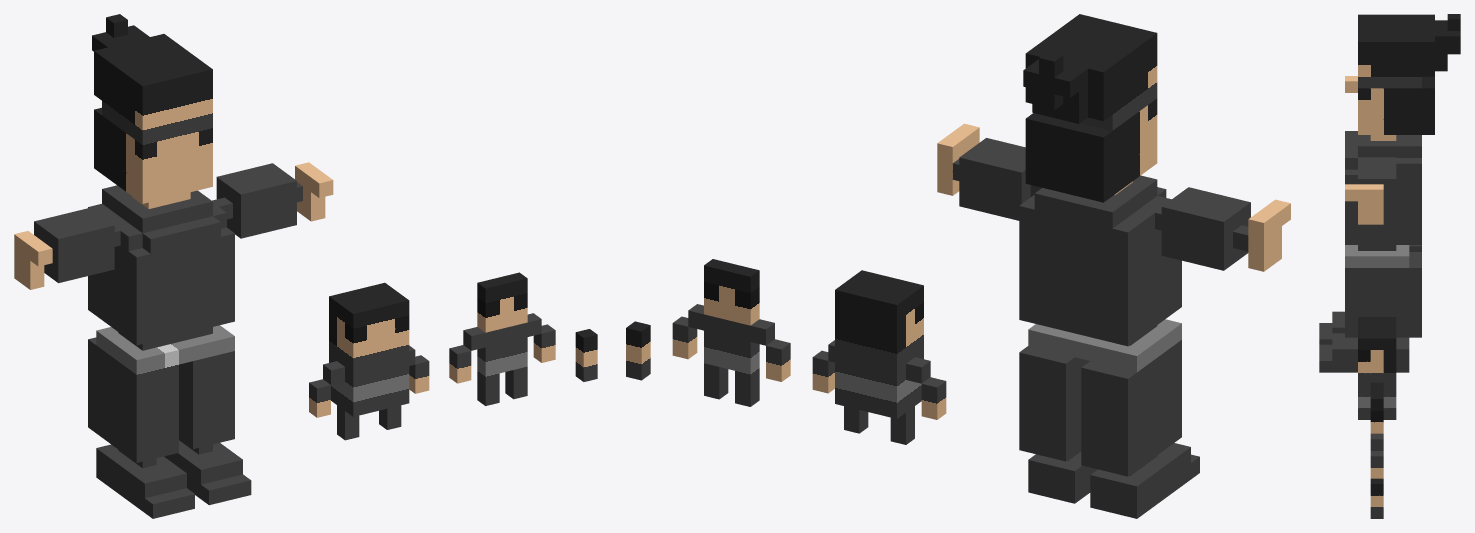
Rendered from lan.glb.
3 renders of one model, left to right at view 1: azimuth 30°, elevation 25°; view 2: azimuth 150°, elevation 25°; view 3: azimuth 270°, elevation 25°, orthographic. The views are drawn at different scales.
Parts seen in each view (by area): view 1: pl0; view 2: pl0; view 3: pl0.
Boxes of the visible parts, x1,y1,x2,y2 form: pl0: (14, 14, 597, 518); pl0: (626, 14, 1290, 518); pl0: (1319, 14, 1460, 518).
Size of the model in its own units: 41 by 29 by 11.
Materials: 1 (1 with a texture image).
